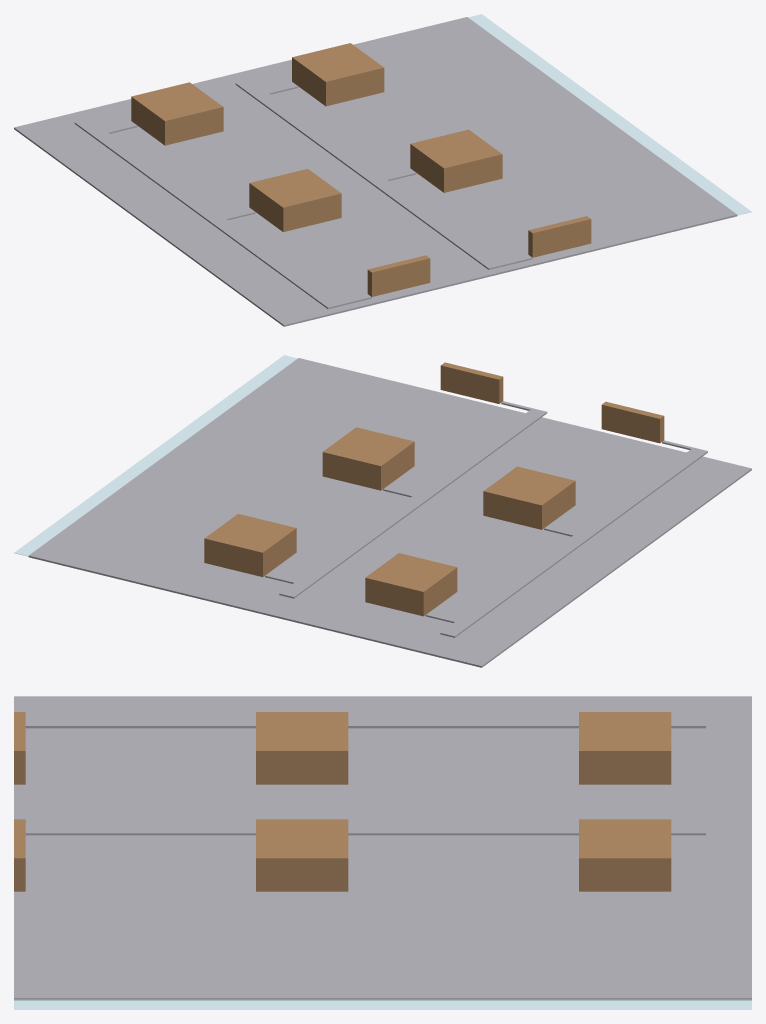
The model's file is city_c02_00.glb.
3 views of the same model, one above another, from view 1: azimuth 30°, elevation 25°; view 2: azimuth 150°, elevation 25°; view 3: azimuth 270°, elevation 25° (orthographic). The views are drawn at different scales.
Visible parts, largest first — view 1: terrain_east_proxy__c02_00, building_015__c02_00, building_016__c02_00, building_006__c02_00, building_005__c02_00, road_east_1__c02_00, road_east_0__c02_00, river_water_proxy__c02_00, building_025__c02_00, building_026__c02_00; view 2: terrain_east_proxy__c02_00, building_005__c02_00, building_006__c02_00, building_016__c02_00, building_015__c02_00, road_east_0__c02_00, road_east_1__c02_00, river_water_proxy__c02_00, building_025__c02_00, building_026__c02_00; view 3: terrain_east_proxy__c02_00, river_water_proxy__c02_00, building_005__c02_00, building_006__c02_00, building_015__c02_00, building_016__c02_00, road_east_1__c02_00, road_east_0__c02_00, building_025__c02_00, building_026__c02_00.
Boxes of the visible parts, x1,y1,x2,y2 form: terrain_east_proxy__c02_00: (14,17,737,326); building_015__c02_00: (410,129,502,192); building_016__c02_00: (249,169,341,231); building_006__c02_00: (131,82,223,145); building_005__c02_00: (292,43,384,106); road_east_1__c02_00: (74,119,342,309); road_east_0__c02_00: (235,79,503,269); river_water_proxy__c02_00: (468,14,751,215); building_025__c02_00: (528,216,591,257); building_026__c02_00: (367,255,430,296); terrain_east_proxy__c02_00: (28,358,751,667); building_005__c02_00: (204,514,296,576); building_006__c02_00: (365,553,457,616); building_016__c02_00: (483,466,575,529); building_015__c02_00: (322,427,414,490); road_east_0__c02_00: (279,408,547,598); road_east_1__c02_00: (440,447,707,637); river_water_proxy__c02_00: (14,355,297,556); building_025__c02_00: (440,362,503,403); building_026__c02_00: (601,401,664,443); terrain_east_proxy__c02_00: (14,696,751,1000); river_water_proxy__c02_00: (14,999,751,1009); building_005__c02_00: (579,819,671,891); building_006__c02_00: (579,712,671,784); building_015__c02_00: (256,819,348,891); building_016__c02_00: (256,712,348,784); road_east_1__c02_00: (25,716,705,728); road_east_0__c02_00: (25,823,705,835); building_025__c02_00: (14,819,25,891); building_026__c02_00: (14,712,25,784).
Bounding box in the file's own units: 128 × 8.6 × 128.
